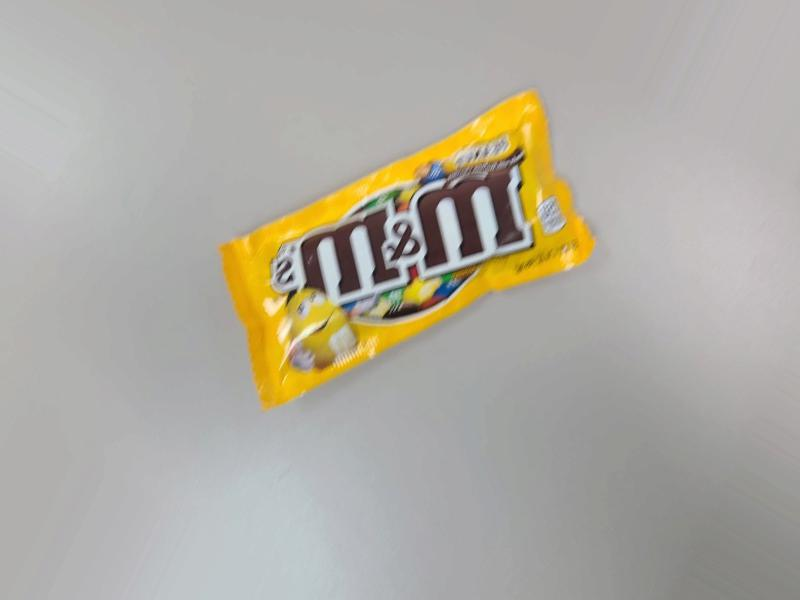m&m: (232, 78, 594, 412)
